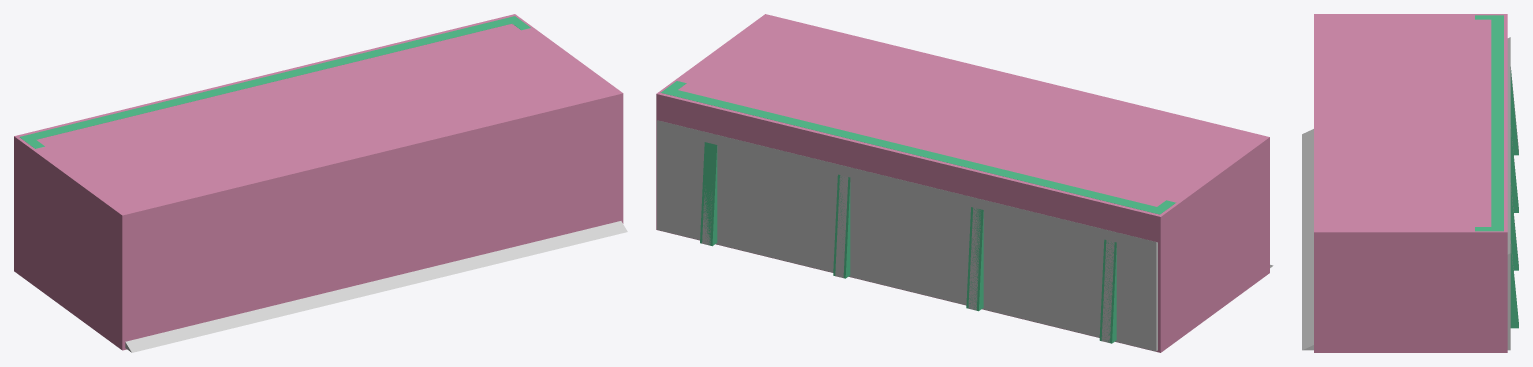
File: race_stands_01.dae
3 views of the same model, side by side, from view 1: azimuth 30°, elevation 25°; view 2: azimuth 150°, elevation 25°; view 3: azimuth 270°, elevation 25° (orthographic). The views are drawn at different scales.
Visible parts, largest first — view 1: Untitled, ind_bld_a10, Colmesh-1; view 2: Untitled, ind_bld_a10, Colmesh-1, ind_bld_a500; view 3: Untitled, Colmesh-1, ind_bld_a10, ind_bld_a500.
Part boxes in pixels (left/top/right/bottom): Untitled: left=14, top=14, right=623, bottom=350; ind_bld_a10: left=125, top=221, right=627, bottom=352; Colmesh-1: left=19, top=16, right=530, bottom=148; Untitled: left=656, top=14, right=1269, bottom=352; ind_bld_a10: left=657, top=120, right=1273, bottom=351; Colmesh-1: left=661, top=81, right=1175, bottom=343; ind_bld_a500: left=702, top=175, right=1114, bottom=342; Untitled: left=1314, top=14, right=1507, bottom=352; Colmesh-1: left=1475, top=15, right=1518, bottom=328; ind_bld_a10: left=1302, top=37, right=1510, bottom=350; ind_bld_a500: left=1510, top=67, right=1518, bottom=291.
Bounding box in the file's own units: 30.31 × 12.72 × 7.81.
